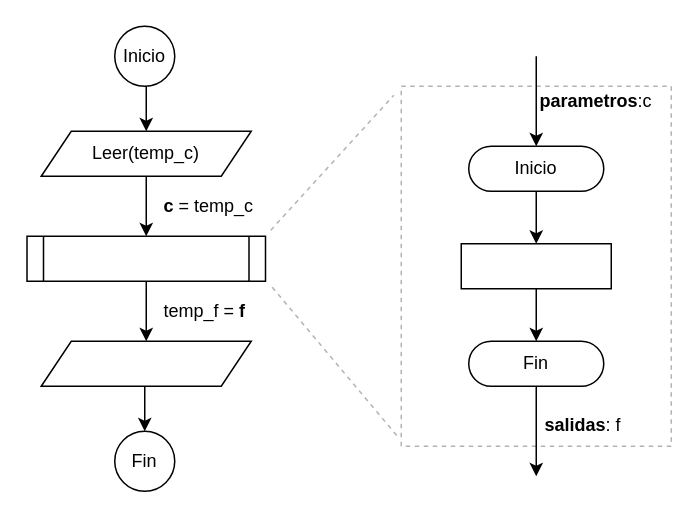
This 698x518 diagram has some shape labels left out. The centre of each missing label's shape, as x and y in pixels:
celcius_to_farenheit: (146,258)
Escribir(temp_f): (145,363)
f = (9/5)*c + 32: (535,265)
